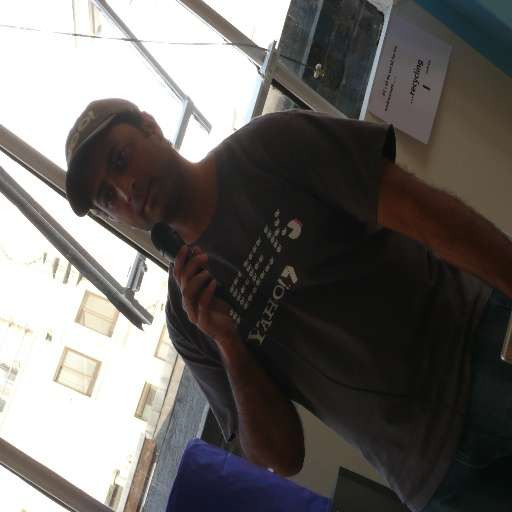hand: (172, 246, 233, 349)
